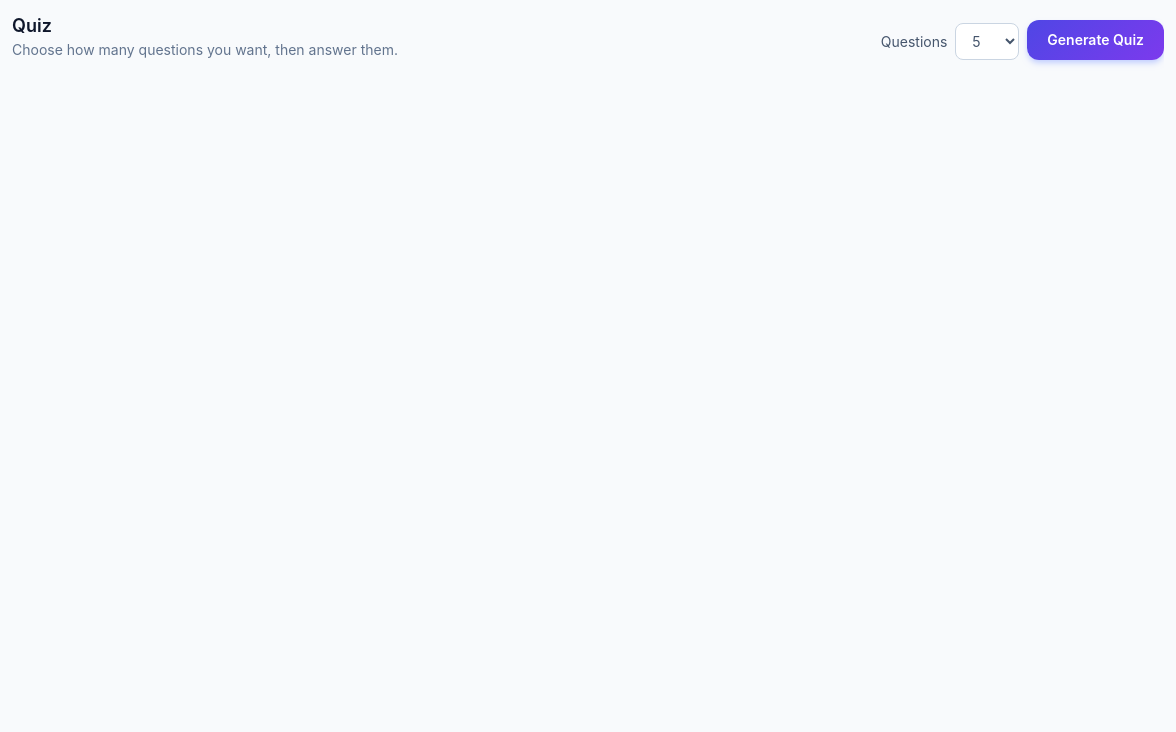
it: QuizPanel (simplified) › submits the answers and shows the score, explanation and page citation
The image size is (1176, 732).
Click the button "Generate Quiz" at (1096, 40), box [1027,20,1164,60]
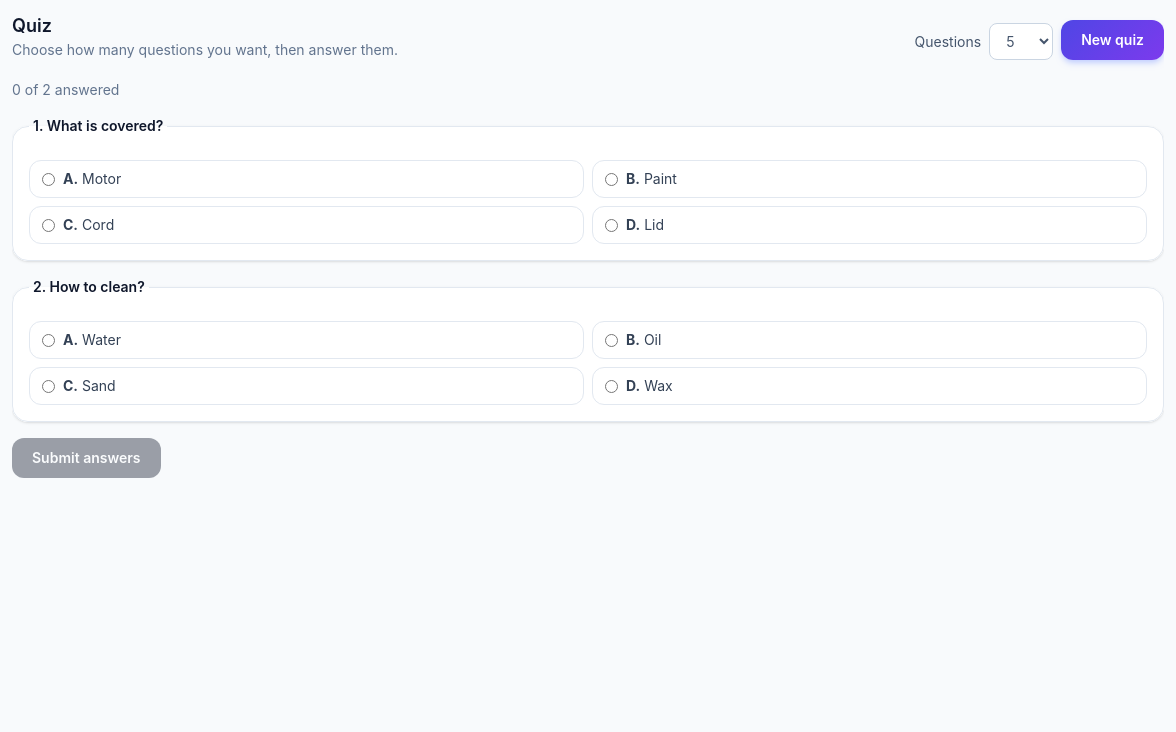
Expected: the text "1. What is covered?" is shown, [29,116,167,136]
Click the radio button labelled "A. Motor" at (48, 179), box [42,172,55,186]
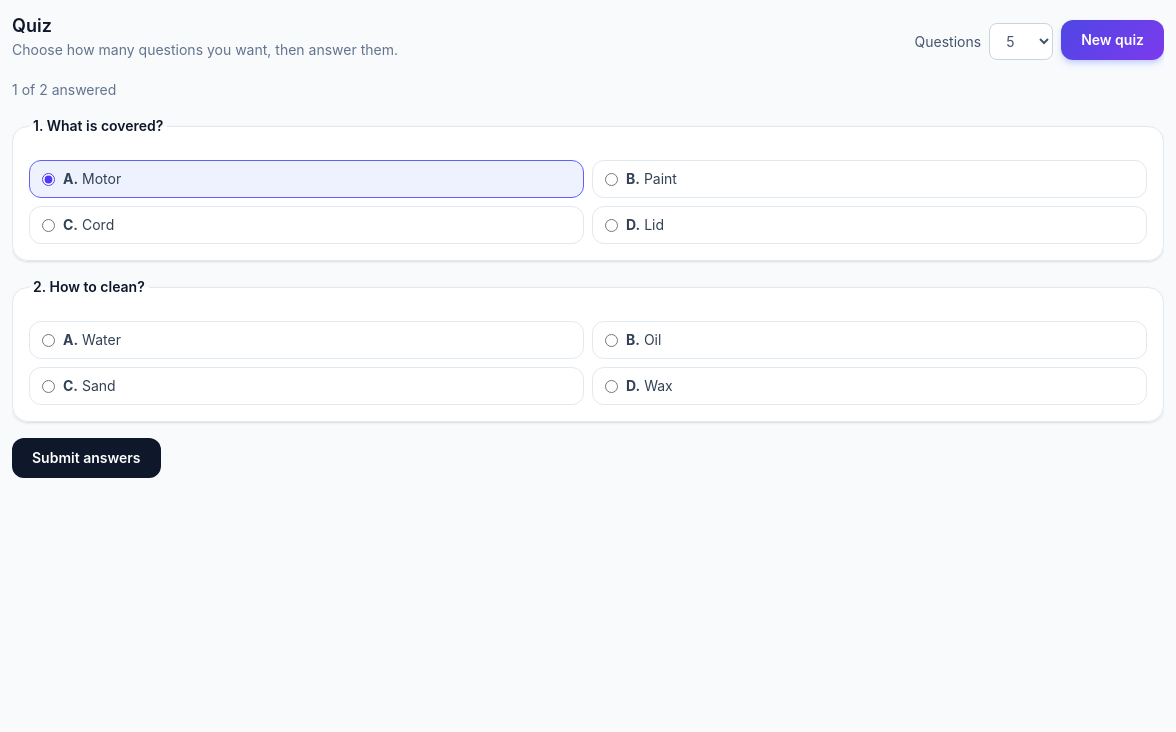
Click the button "Submit answers" at (86, 458), box [12,438,160,478]
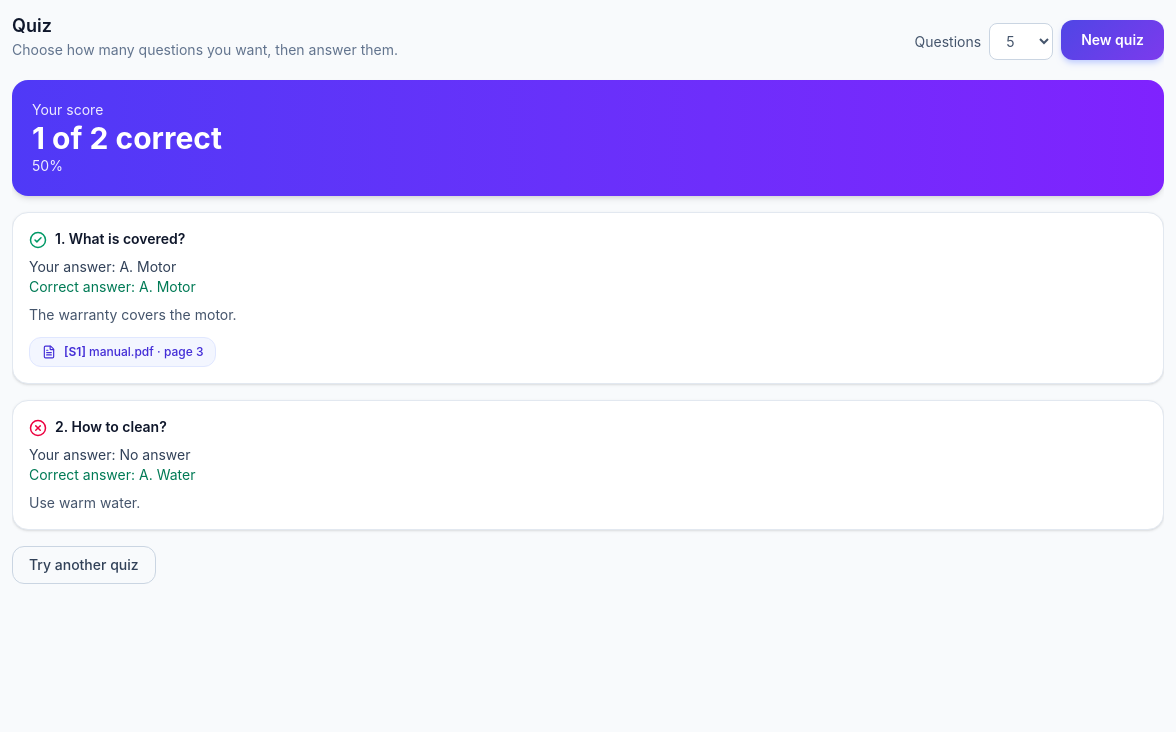
Expected: the text with test id "score" reads "1 of 2 correct", [32,120,222,156]
Expected: the text "The warranty covers the motor." is shown, [29,306,237,323]
Expected: the text "[S1] manual.pdf · page 3" is shown, [64,344,204,360]
